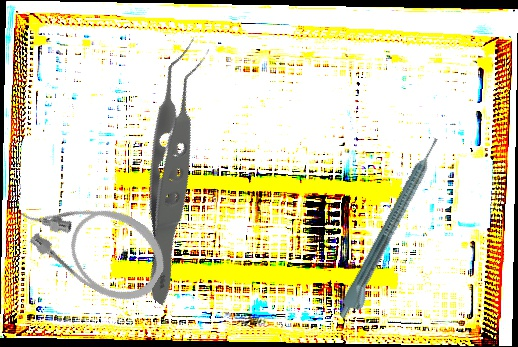Cannula: (6, 167, 179, 316)
Handpiece: (334, 135, 452, 325)
Tissue Forceps: (51, 35, 305, 307)
